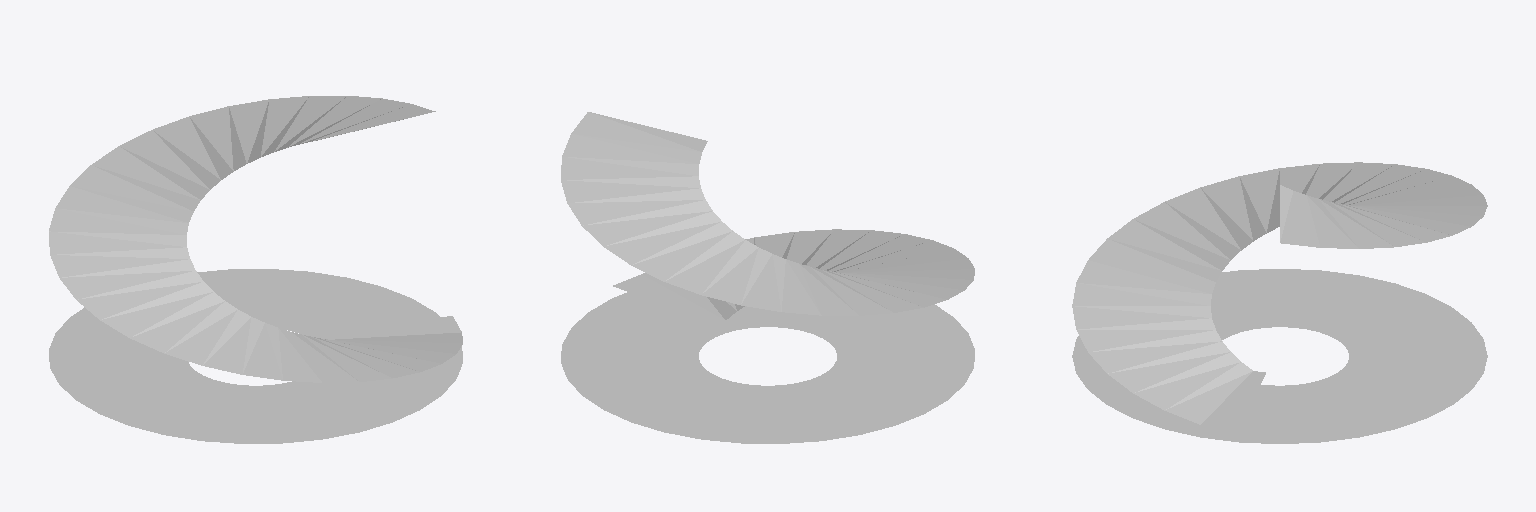
File: screw removed faces.obj
3 renders of one model, left to right at view 1: azimuth 30°, elevation 25°; view 2: azimuth 150°, elevation 25°; view 3: azimuth 270°, elevation 25°, orthographic.
Parts seen in each view (by area): view 1: screw removed faces; view 2: screw removed faces; view 3: screw removed faces.
Boxes of the visible parts, x1=… form: screw removed faces: x1=49, y1=96, x2=462, y2=443; screw removed faces: x1=561, y1=112, x2=974, y2=443; screw removed faces: x1=1072, y1=162, x2=1487, y2=443.
Size of the model in its own units: 30 by 16 by 30.